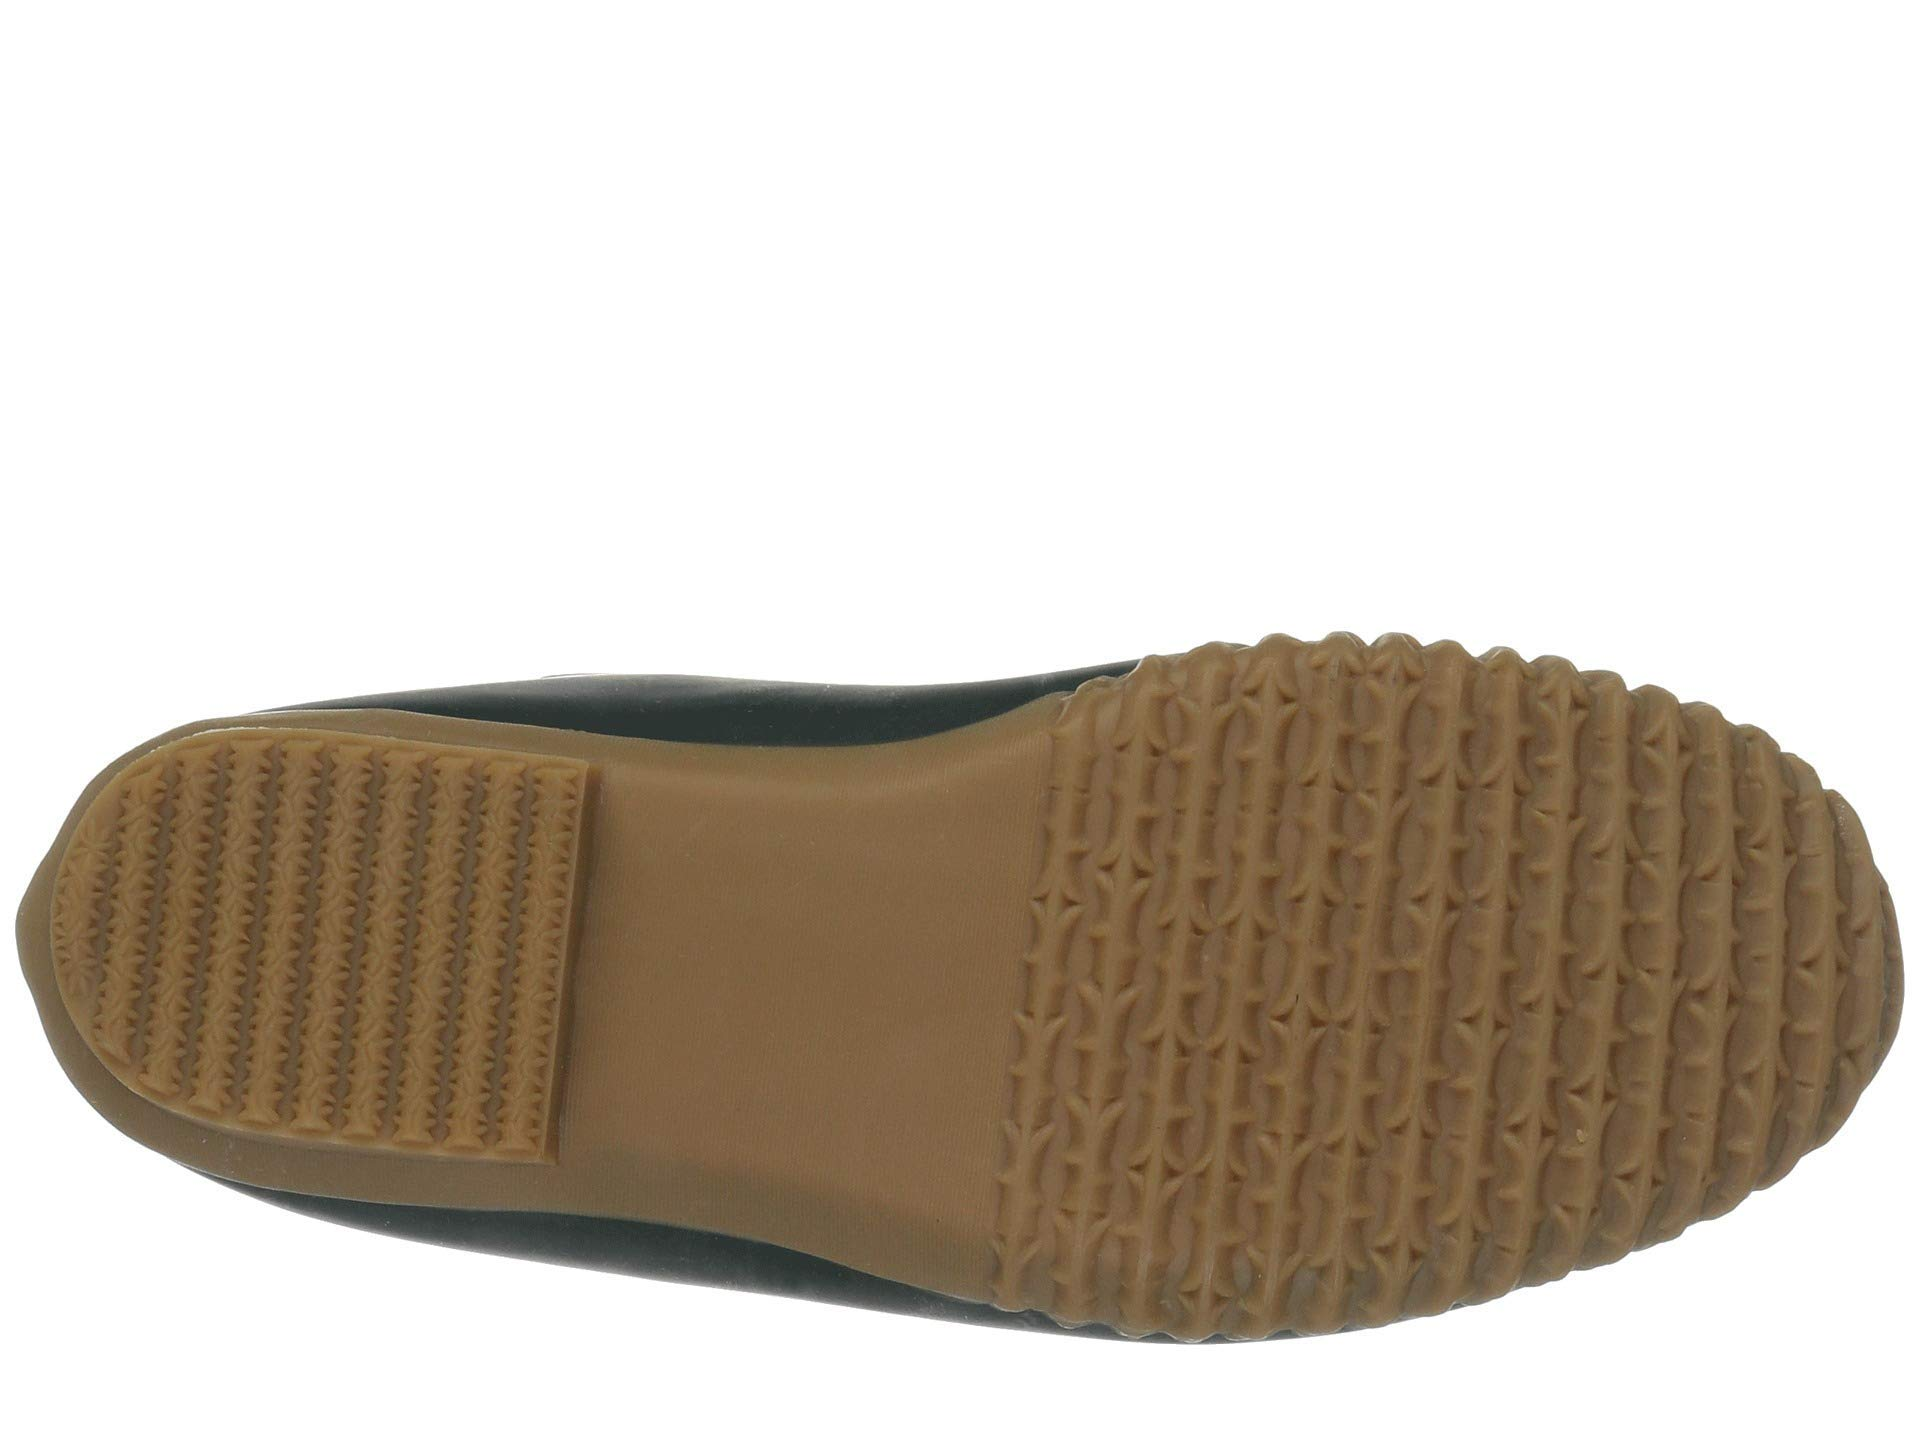chevron: (1090, 718, 1557, 1131), (138, 782, 478, 1091)
line: (1090, 718, 1557, 1131), (138, 782, 478, 1091)
star: (138, 782, 478, 1091)
